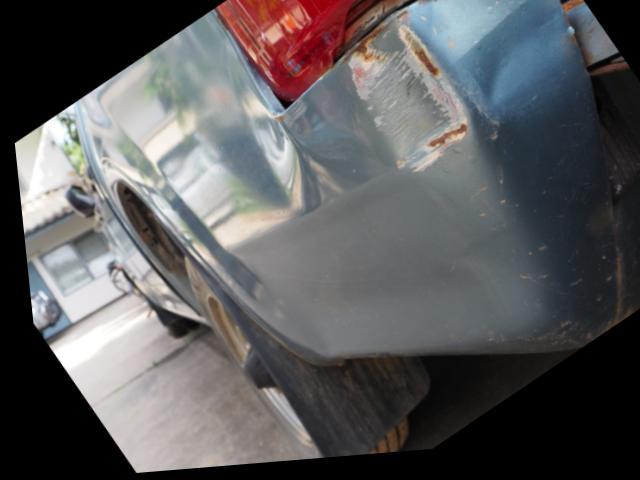dent: (180, 21, 299, 217), (433, 0, 574, 117)
lamp broken: (213, 0, 435, 114)
scratch: (345, 33, 466, 179)
